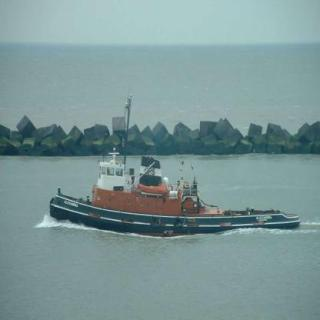Tug Boat: (41, 152, 297, 235)
